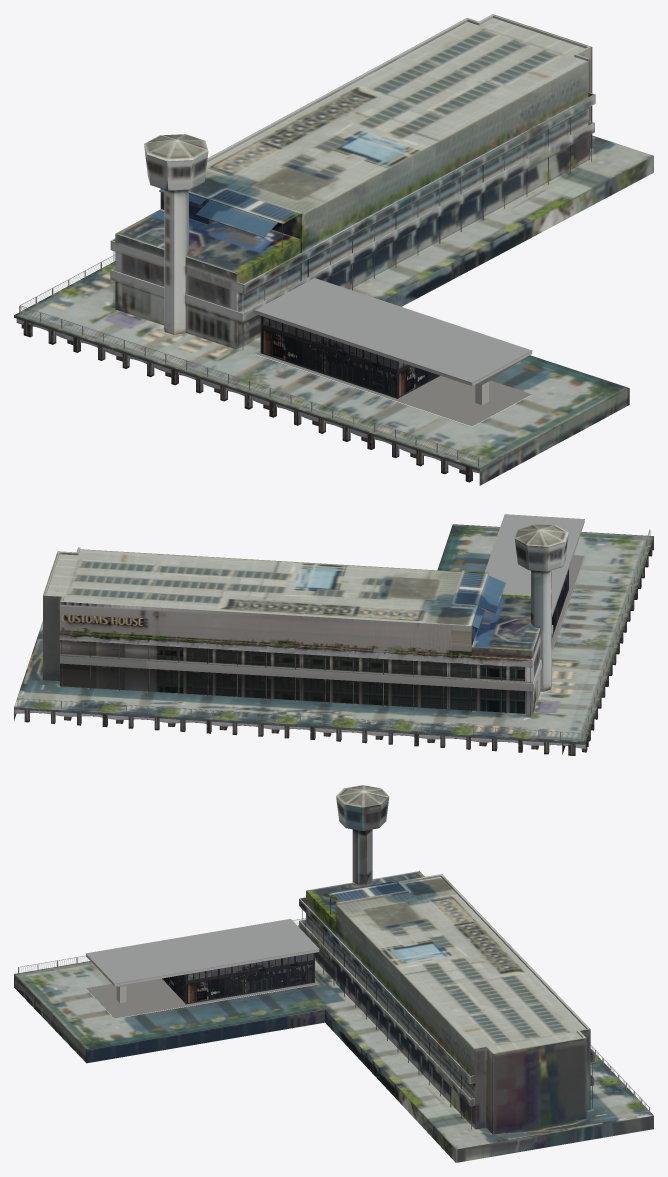
3 renders of one model, top to bottom at view 1: azimuth 30°, elevation 25°; view 2: azimuth 150°, elevation 25°; view 3: azimuth 270°, elevation 25°, orthographic. The views are drawn at different scales.
Visible parts, largest first — view 1: 8_0.glb; view 2: 8_0.glb; view 3: 8_0.glb.
Boxes of the visible parts, x1=… form: 8_0.glb: x1=14, y1=14, x2=653, y2=485; 8_0.glb: x1=14, y1=514, x2=653, y2=755; 8_0.glb: x1=14, y1=785, x2=653, y2=1162.
Bounding box in the file's own units: 76.3 × 23.34 × 82.53.
6 materials, 5 textured.
